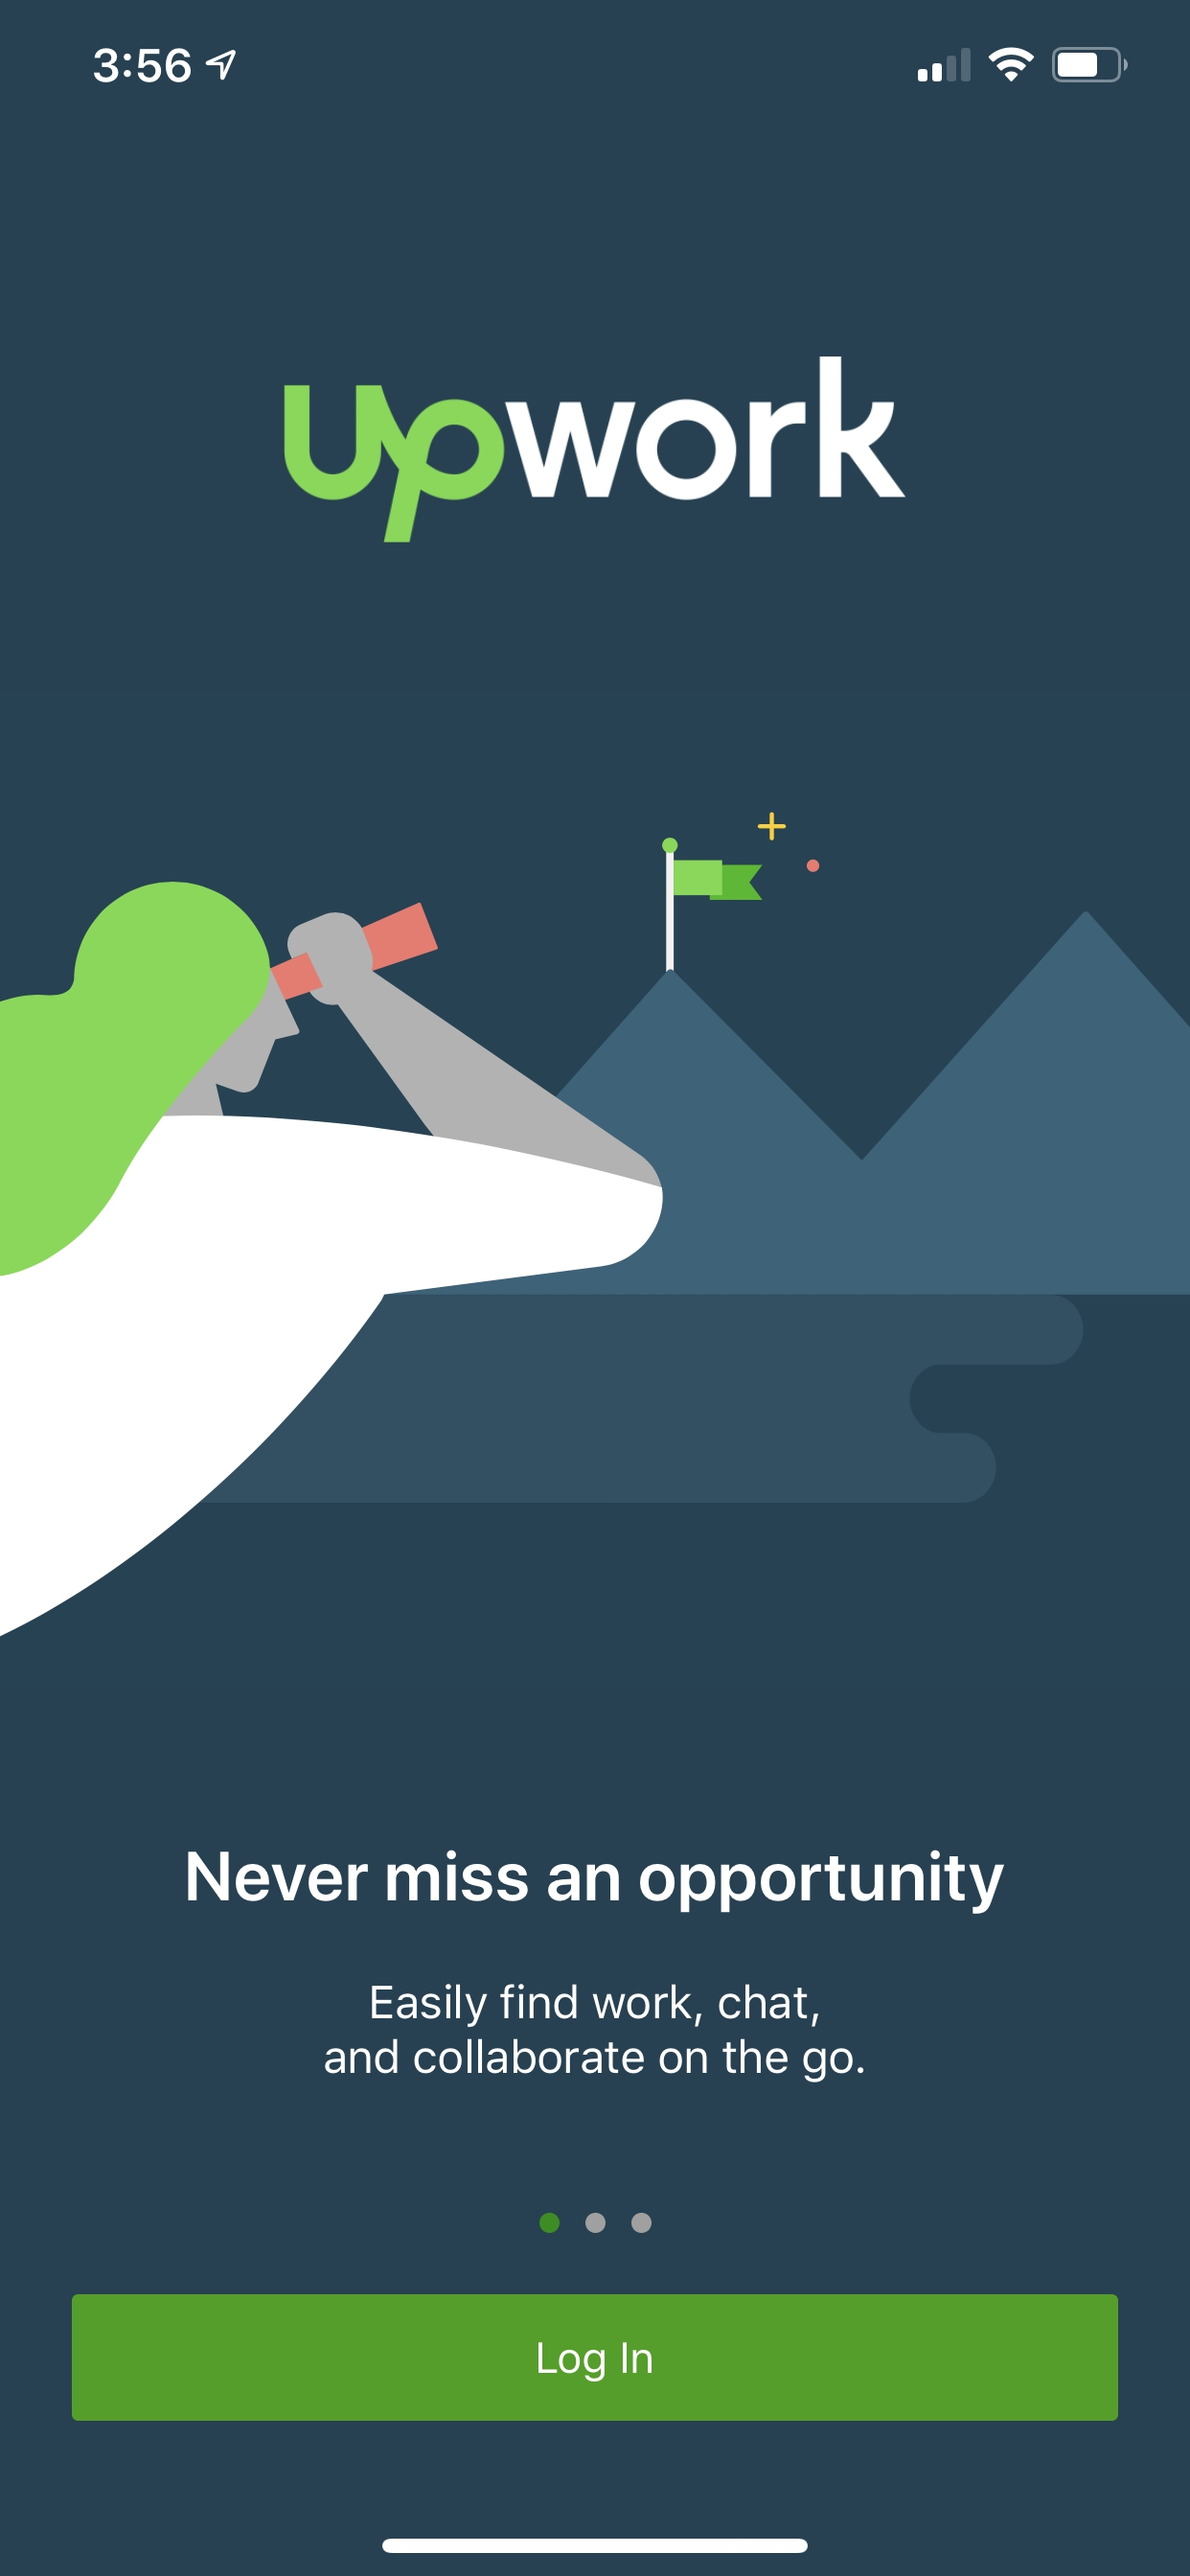Image: (2, 810, 1188, 1636), (284, 356, 906, 542)
PageIndicator: (539, 2211, 653, 2234)
Text: (325, 1983, 863, 2083), (187, 1850, 1004, 1914)
TextButton: (71, 2293, 1118, 2422)
UpperTaskBar: (94, 48, 1128, 84)
